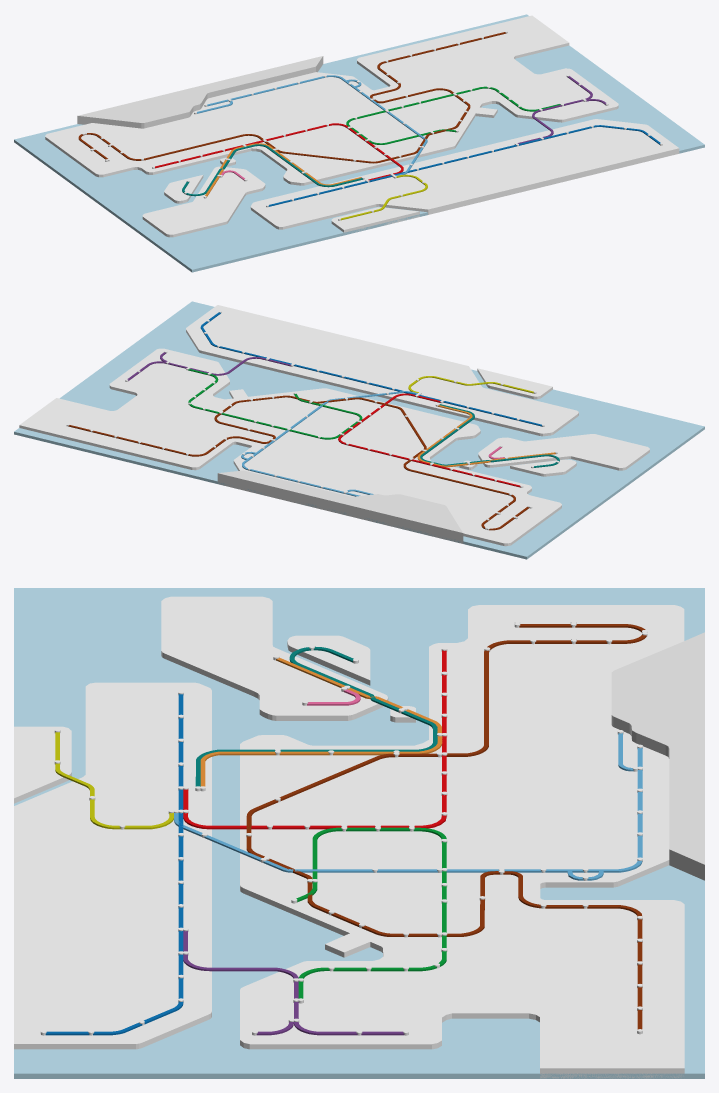
Rendered from mtr_map.fbx.
3 renders of one model, top to bottom at view 1: azimuth 30°, elevation 25°; view 2: azimuth 150°, elevation 25°; view 3: azimuth 270°, elevation 25°, orthographic. The views are drawn at different scales.
Visible parts, largest first — view 1: land, Lines 2, Nodes; view 2: land, Lines 2, Nodes; view 3: land, Lines 2, Nodes.
Part boxes in pixels (x1,y1,x2,y2): land: (14, 14, 704, 272); Lines 2: (78, 32, 660, 220); Nodes: (82, 31, 662, 220); land: (14, 301, 704, 559); Lines 2: (68, 312, 559, 530); Nodes: (66, 311, 559, 530); land: (14, 588, 704, 1078); Lines 2: (45, 624, 646, 1035); Nodes: (40, 620, 647, 1035).
Bounding box in the file's own units: 1959 × 1178 × 40.
